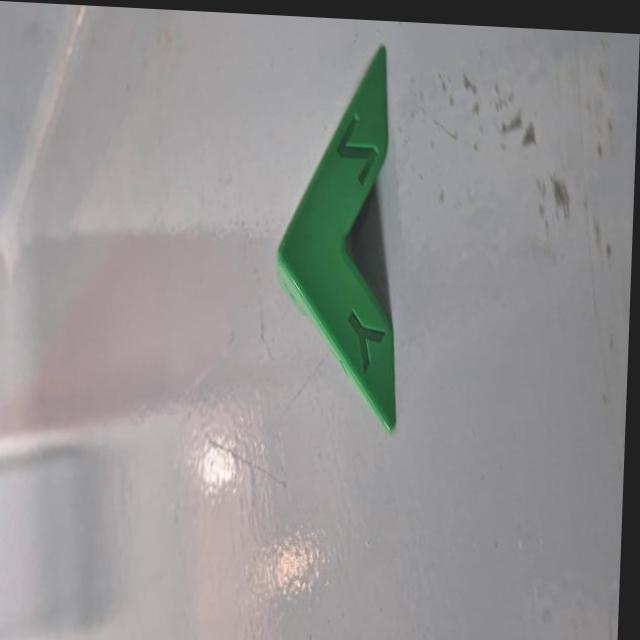eje: (262, 32, 417, 441)
